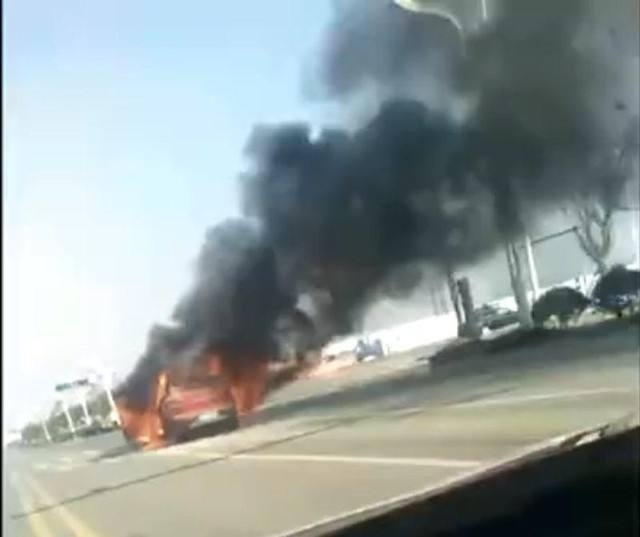fire: (114, 345, 278, 447)
